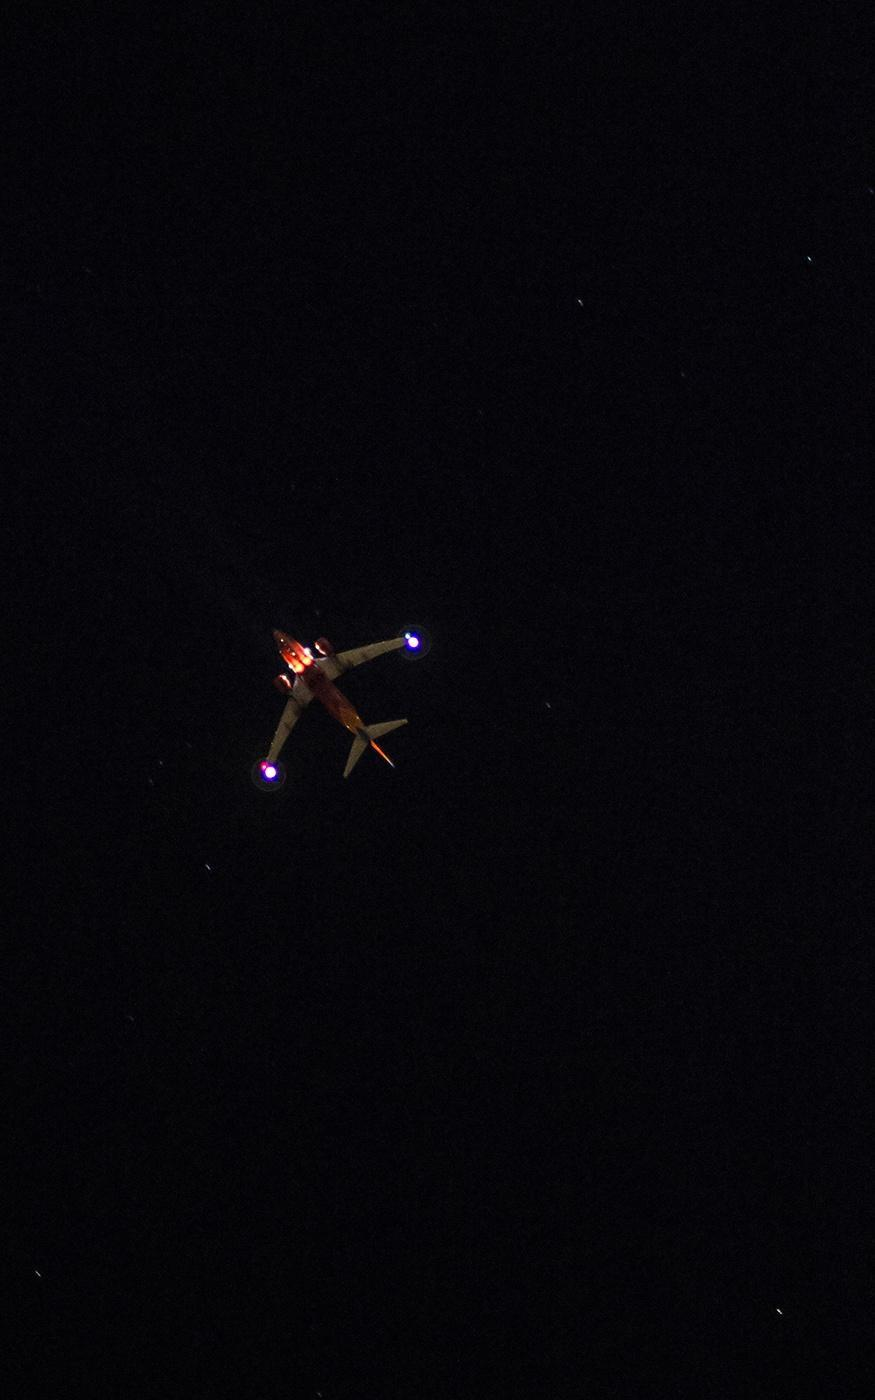Plane: (241, 615, 447, 798)
